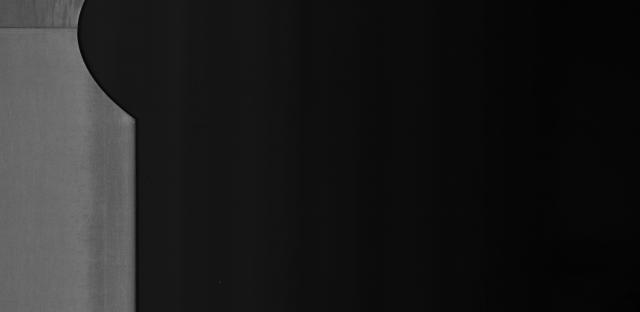crescent_gap: (65, 0, 166, 126)
welding_line: (2, 16, 99, 38)
